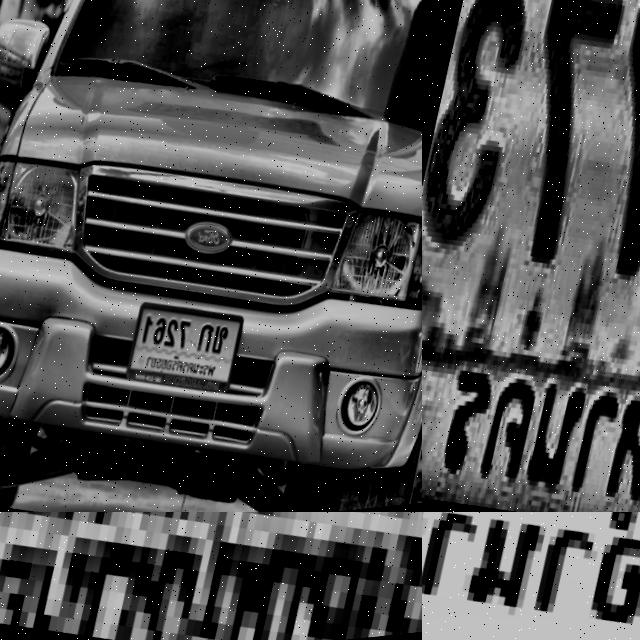license-plate: (422, 0, 640, 512), (0, 512, 422, 640), (422, 512, 640, 640), (117, 296, 243, 415)
